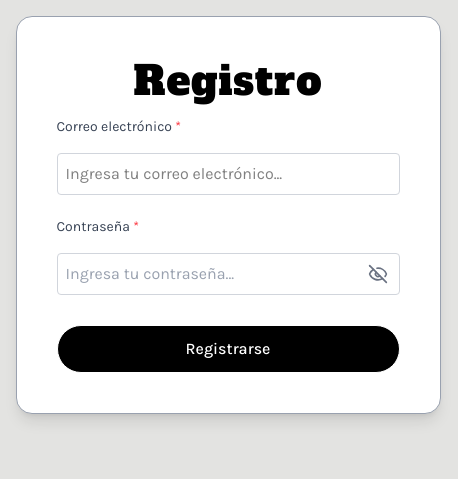
Test case: signupPage › deberia mostrar un error si el formulario se envia vacio
Click the button "Registrarse" at [228, 349], box [56,325,400,373]
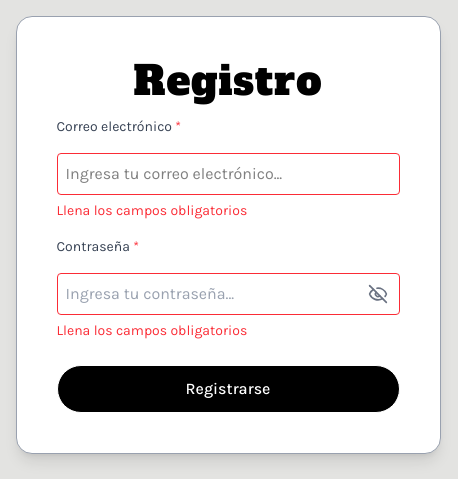
Check: the text "Llena los campos obligatorios" is shown 2 times, box [56,201,247,221]; [56,321,247,341]
